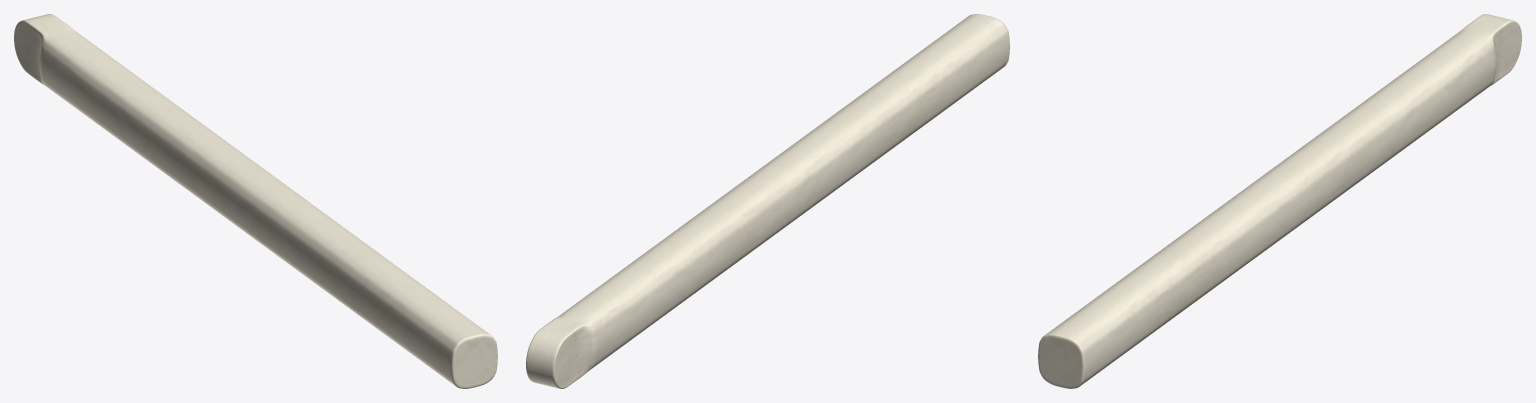
The model's file is PART5 (SUBDIVISION).glb.
The picture shows the model from 3 angles, left to right: view 1: azimuth 30°, elevation 25°; view 2: azimuth 150°, elevation 25°; view 3: azimuth 330°, elevation 25°; orthographic projection.
Visible parts, largest first — view 1: CANADARM HD.000; view 2: CANADARM HD.000; view 3: CANADARM HD.000.
Part boxes in pixels (x1=…): CANADARM HD.000: x1=14, y1=14, x2=497, y2=388; CANADARM HD.000: x1=526, y1=14, x2=1009, y2=388; CANADARM HD.000: x1=1038, y1=14, x2=1521, y2=388.
Size of the model in its own units: 0.1187 by 0.1265 by 1.99.
Materials: 1 (1 with a texture image).
